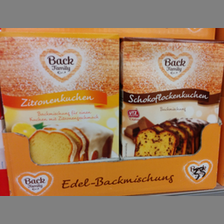cake: (4, 33, 121, 174), (120, 36, 222, 195)
